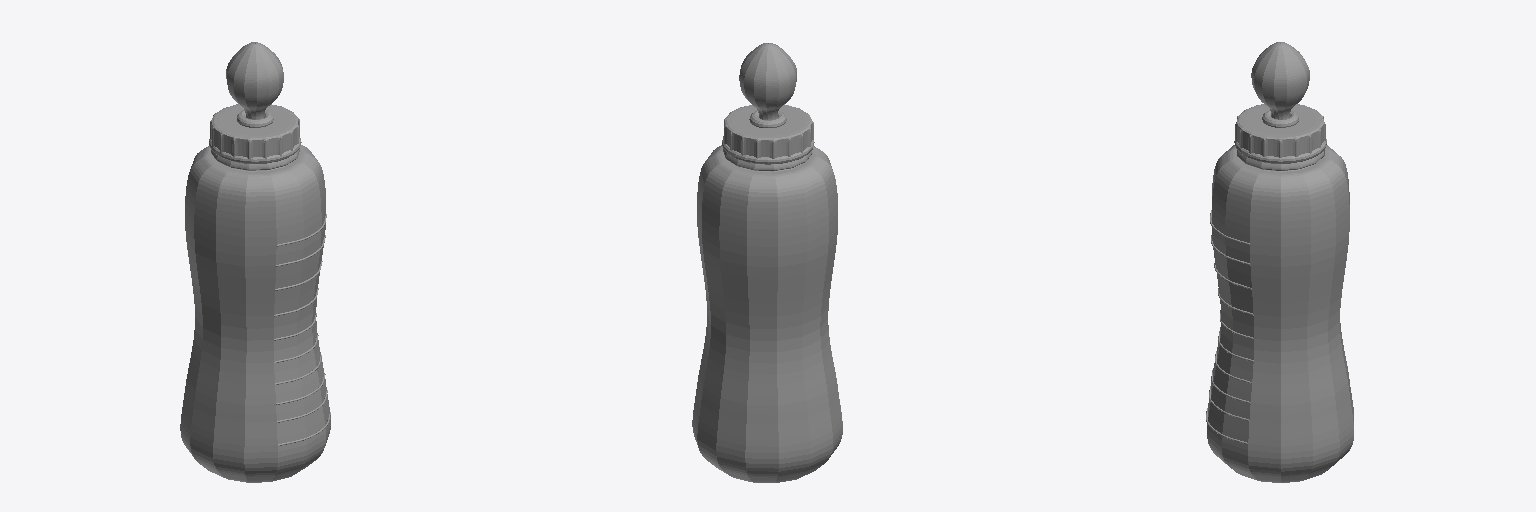
The model's file is dexter.obj.
3 views of the same model, side by side, from view 1: azimuth 30°, elevation 25°; view 2: azimuth 150°, elevation 25°; view 3: azimuth 270°, elevation 25° (orthographic).
Visible parts, largest first — view 1: Line004, Line002, Cylinder002, Line003, Shape001, Torus003; view 2: Line004, Line002, Cylinder002, Line003, Torus003; view 3: Line004, Line002, Cylinder002, Line003, Shape001, Torus003.
Part boxes in pixels (bbox=[...]): Line004: bbox=[180, 145, 330, 482]; Line002: bbox=[180, 145, 330, 482]; Cylinder002: bbox=[210, 104, 299, 159]; Line003: bbox=[226, 42, 283, 119]; Shape001: bbox=[274, 214, 330, 445]; Torus003: bbox=[209, 137, 301, 163]; Line004: bbox=[692, 145, 842, 482]; Line002: bbox=[692, 146, 842, 482]; Cylinder002: bbox=[724, 104, 813, 158]; Line003: bbox=[739, 43, 796, 119]; Torus003: bbox=[722, 136, 814, 164]; Line004: bbox=[1207, 145, 1353, 482]; Line002: bbox=[1207, 145, 1353, 482]; Cylinder002: bbox=[1235, 104, 1325, 157]; Line003: bbox=[1251, 42, 1309, 119]; Shape001: bbox=[1206, 210, 1253, 444]; Torus003: bbox=[1234, 139, 1326, 163].
Bounding box in the file's own units: 7.08 × 22 × 6.97.